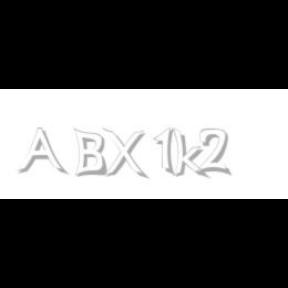1: (153, 128, 175, 176)
2: (196, 128, 230, 176)
A: (17, 128, 65, 176)
B: (73, 128, 107, 178)
X: (102, 128, 146, 180)
k: (172, 128, 210, 180)
